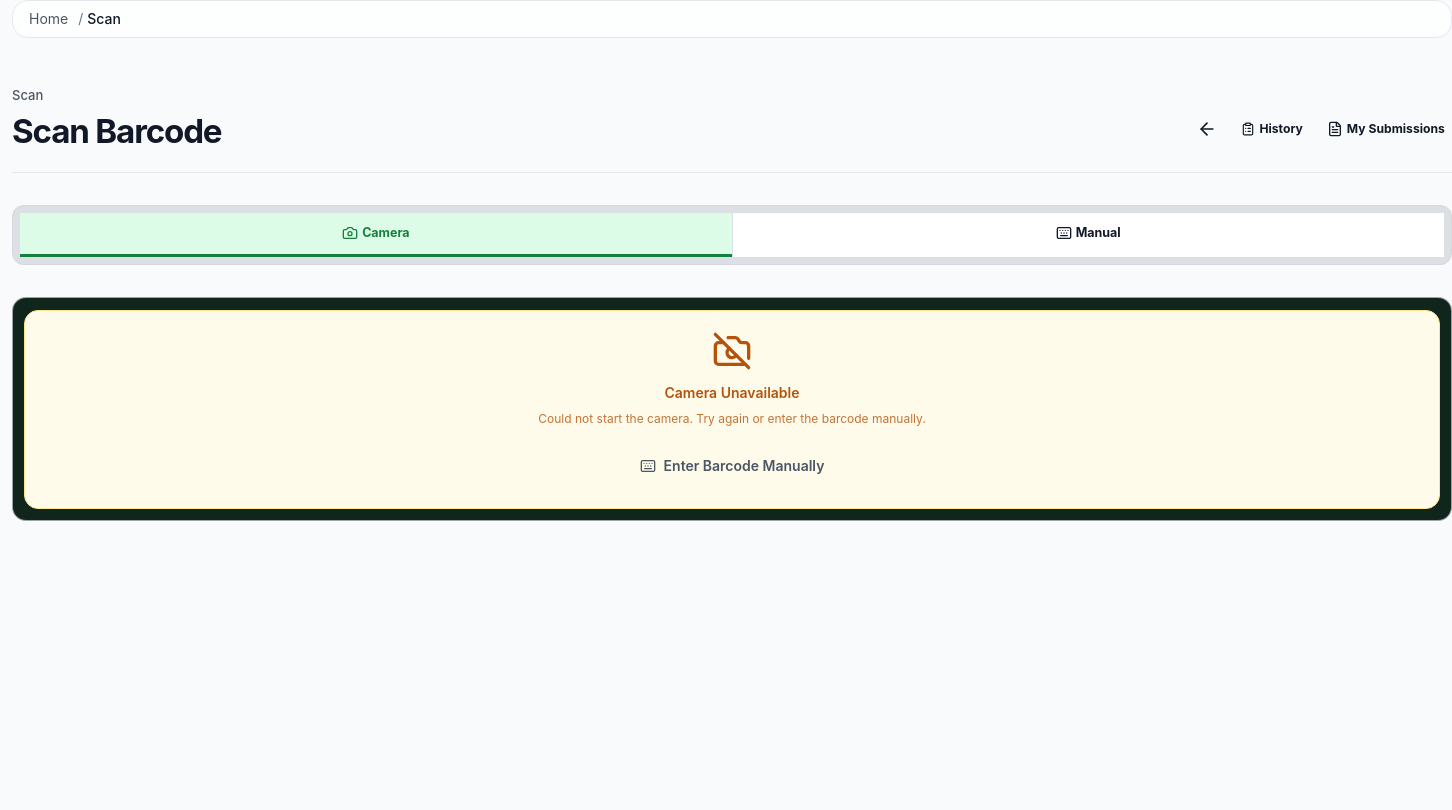
ScanPage › shows manual entry hint text
Click the button "Manual".
click(1088, 235)  # box [732,213,1444,257]
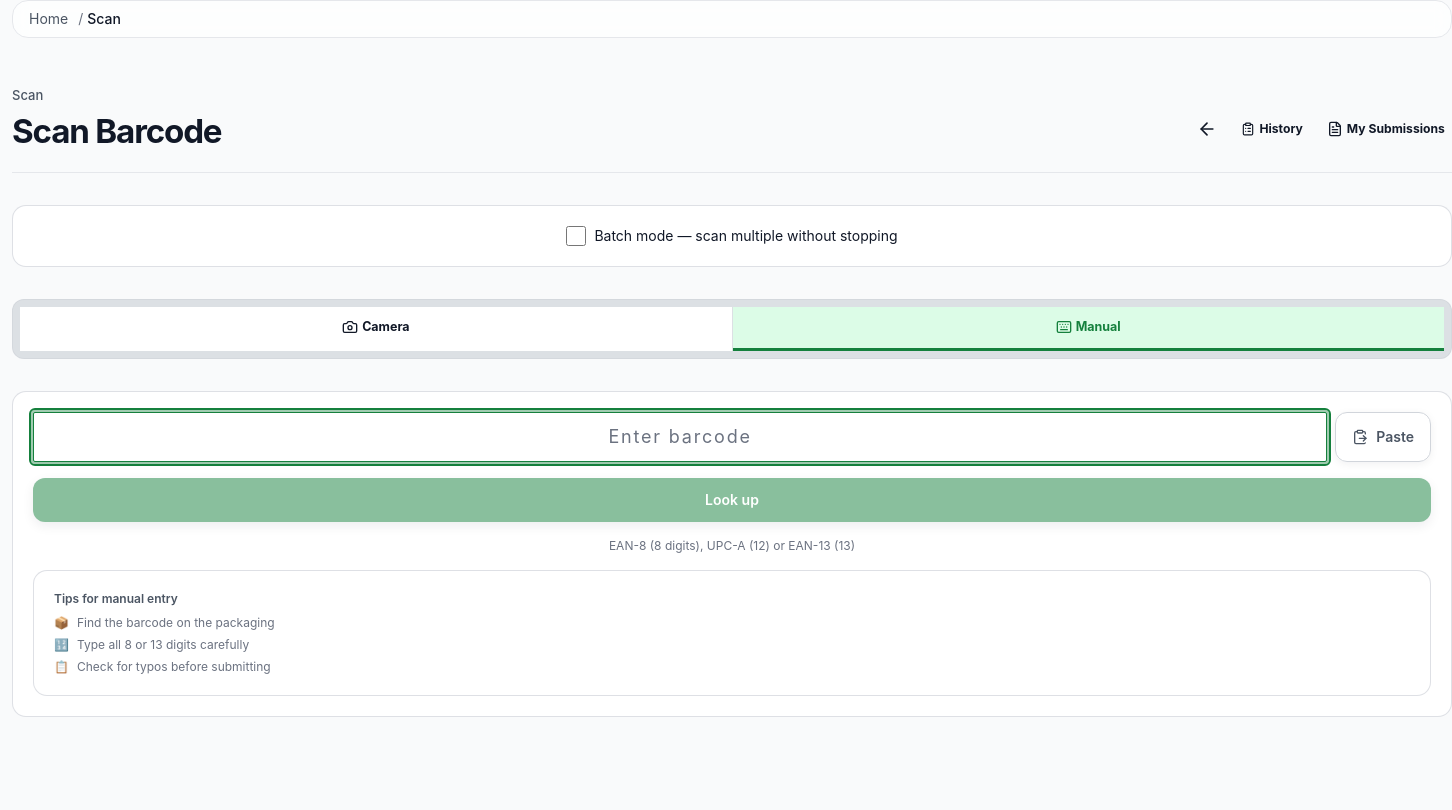
Check: the text "EAN-8 (8 digits), UPC-A (12) or EAN-13 (13)" is shown, box [609,538,855,553]
